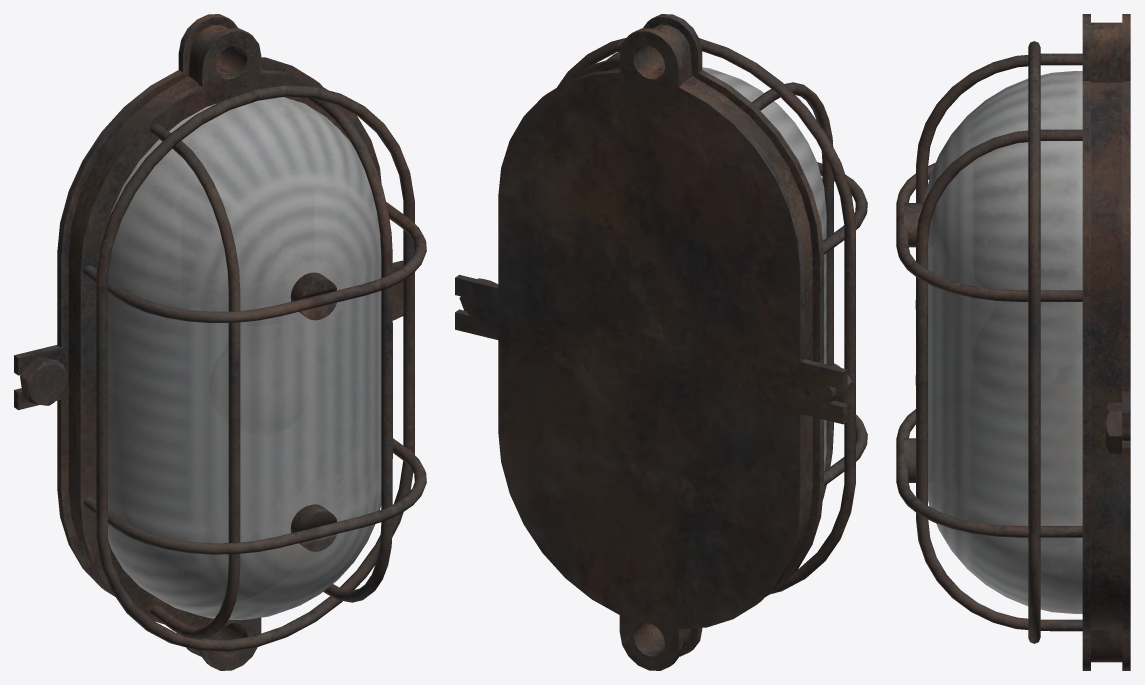
Rendered from polyhaven-industrial-wall-lamp.glb.
3 renders of one model, left to right at view 1: azimuth 30°, elevation 25°; view 2: azimuth 150°, elevation 25°; view 3: azimuth 270°, elevation 25°, orthographic.
Parts seen in each view (by area): view 1: industrial_wall_lamp_1, industrial_wall_lamp_0; view 2: industrial_wall_lamp_0, industrial_wall_lamp_1; view 3: industrial_wall_lamp_1, industrial_wall_lamp_0.
Part boxes in pixels (x1=…): industrial_wall_lamp_1: x1=108, y1=97, x2=381, y2=619; industrial_wall_lamp_0: x1=14, y1=14, x2=426, y2=670; industrial_wall_lamp_0: x1=455, y1=14, x2=867, y2=670; industrial_wall_lamp_1: x1=702, y1=67, x2=826, y2=471; industrial_wall_lamp_1: x1=924, y1=71, x2=1082, y2=613; industrial_wall_lamp_0: x1=896, y1=14, x2=1130, y2=670.
Size of the model in its own units: 0.2734 by 0.4299 by 0.1404.
2 materials, 2 textured.
